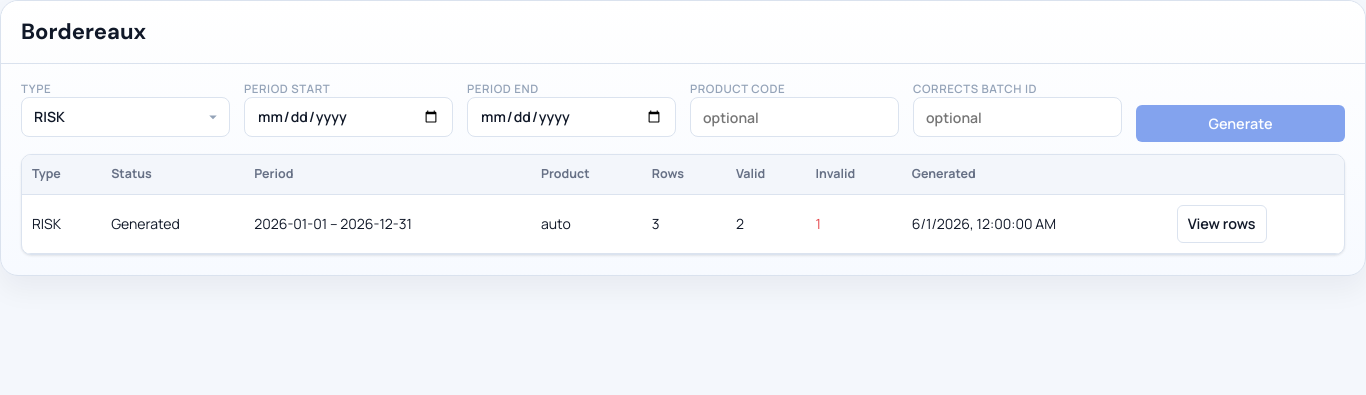
Scenario: BordereauxPage › toggles row detail view for a batch
The width and height of the screenshot is (1366, 395).
Click the button "View rows" at (1222,224), box [1177,205,1266,243]
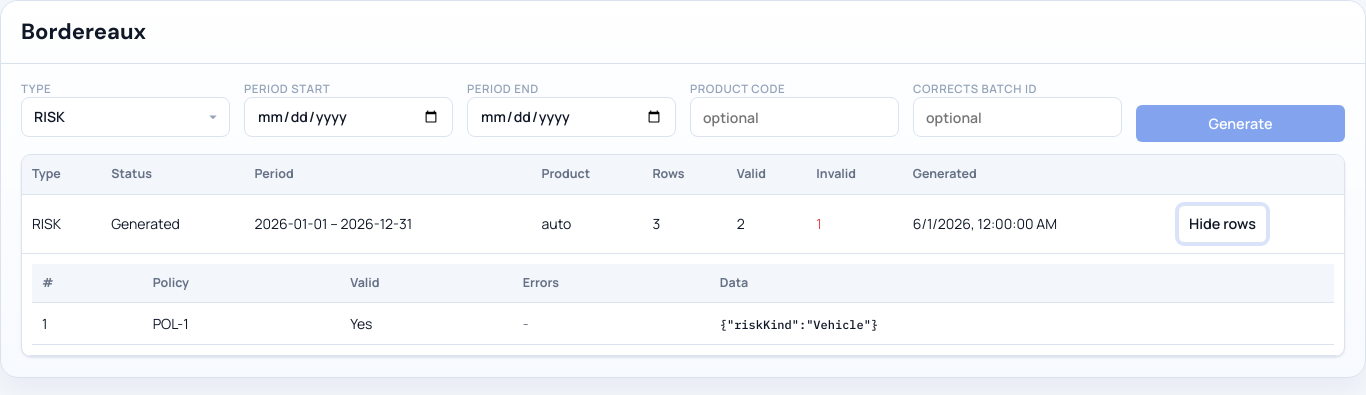
Now the text "POL-1" is shown, box [143,303,340,345]
Click the button "Hide rows" at (1222,224), box [1178,205,1267,243]
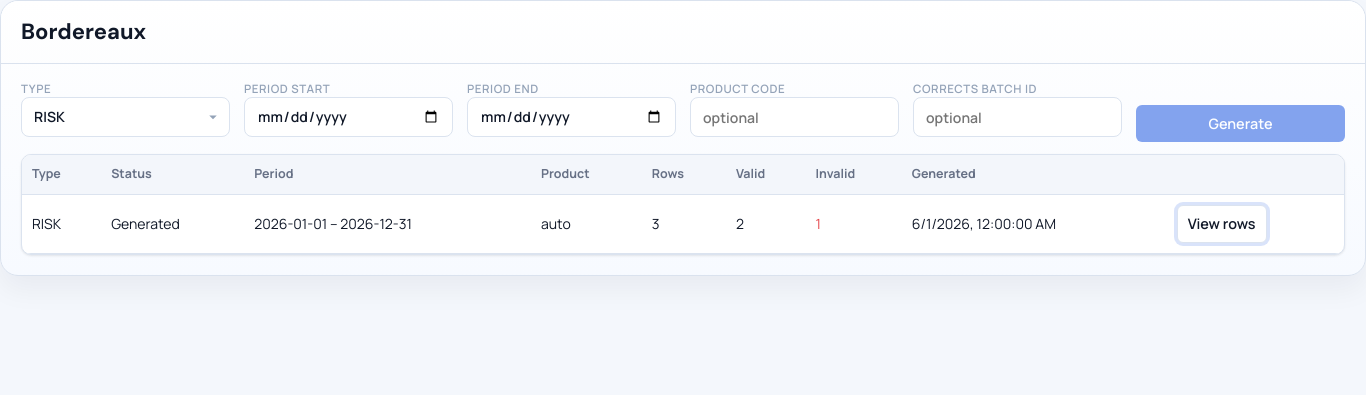
Now the text "POL-1" is gone
